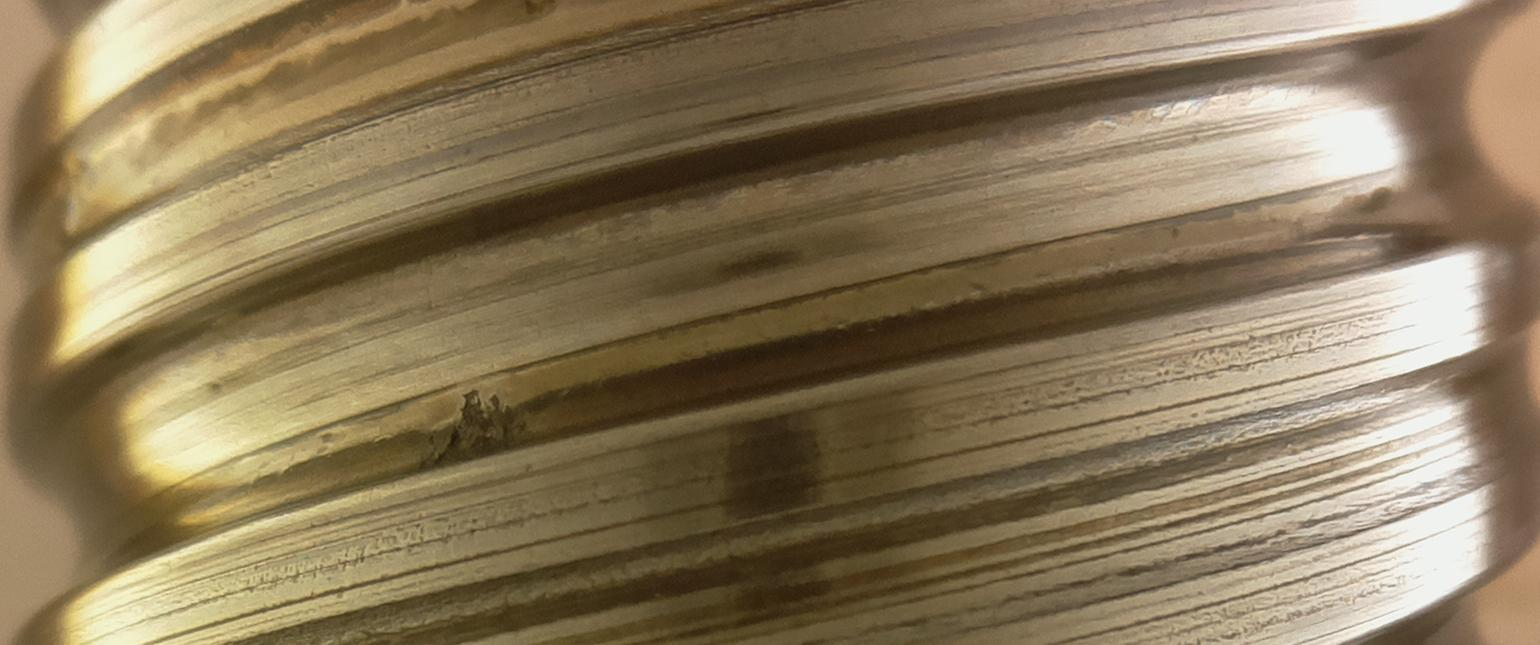pitting: (428, 389, 529, 466)
